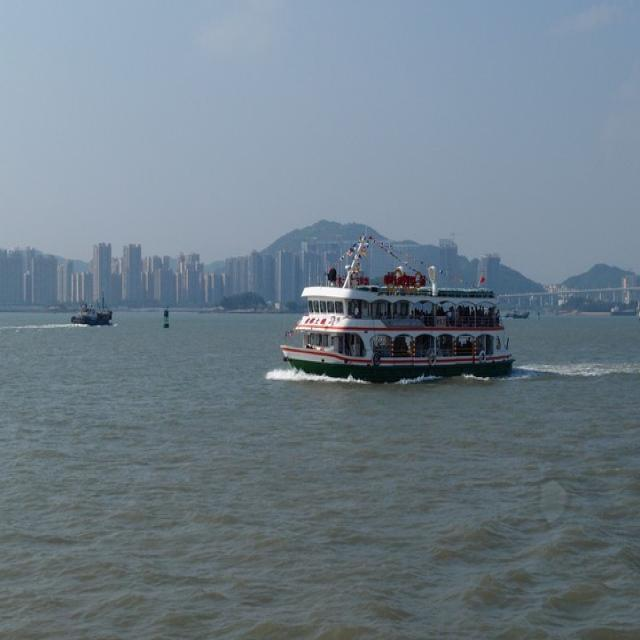passenger ship: (290, 234, 512, 373)
